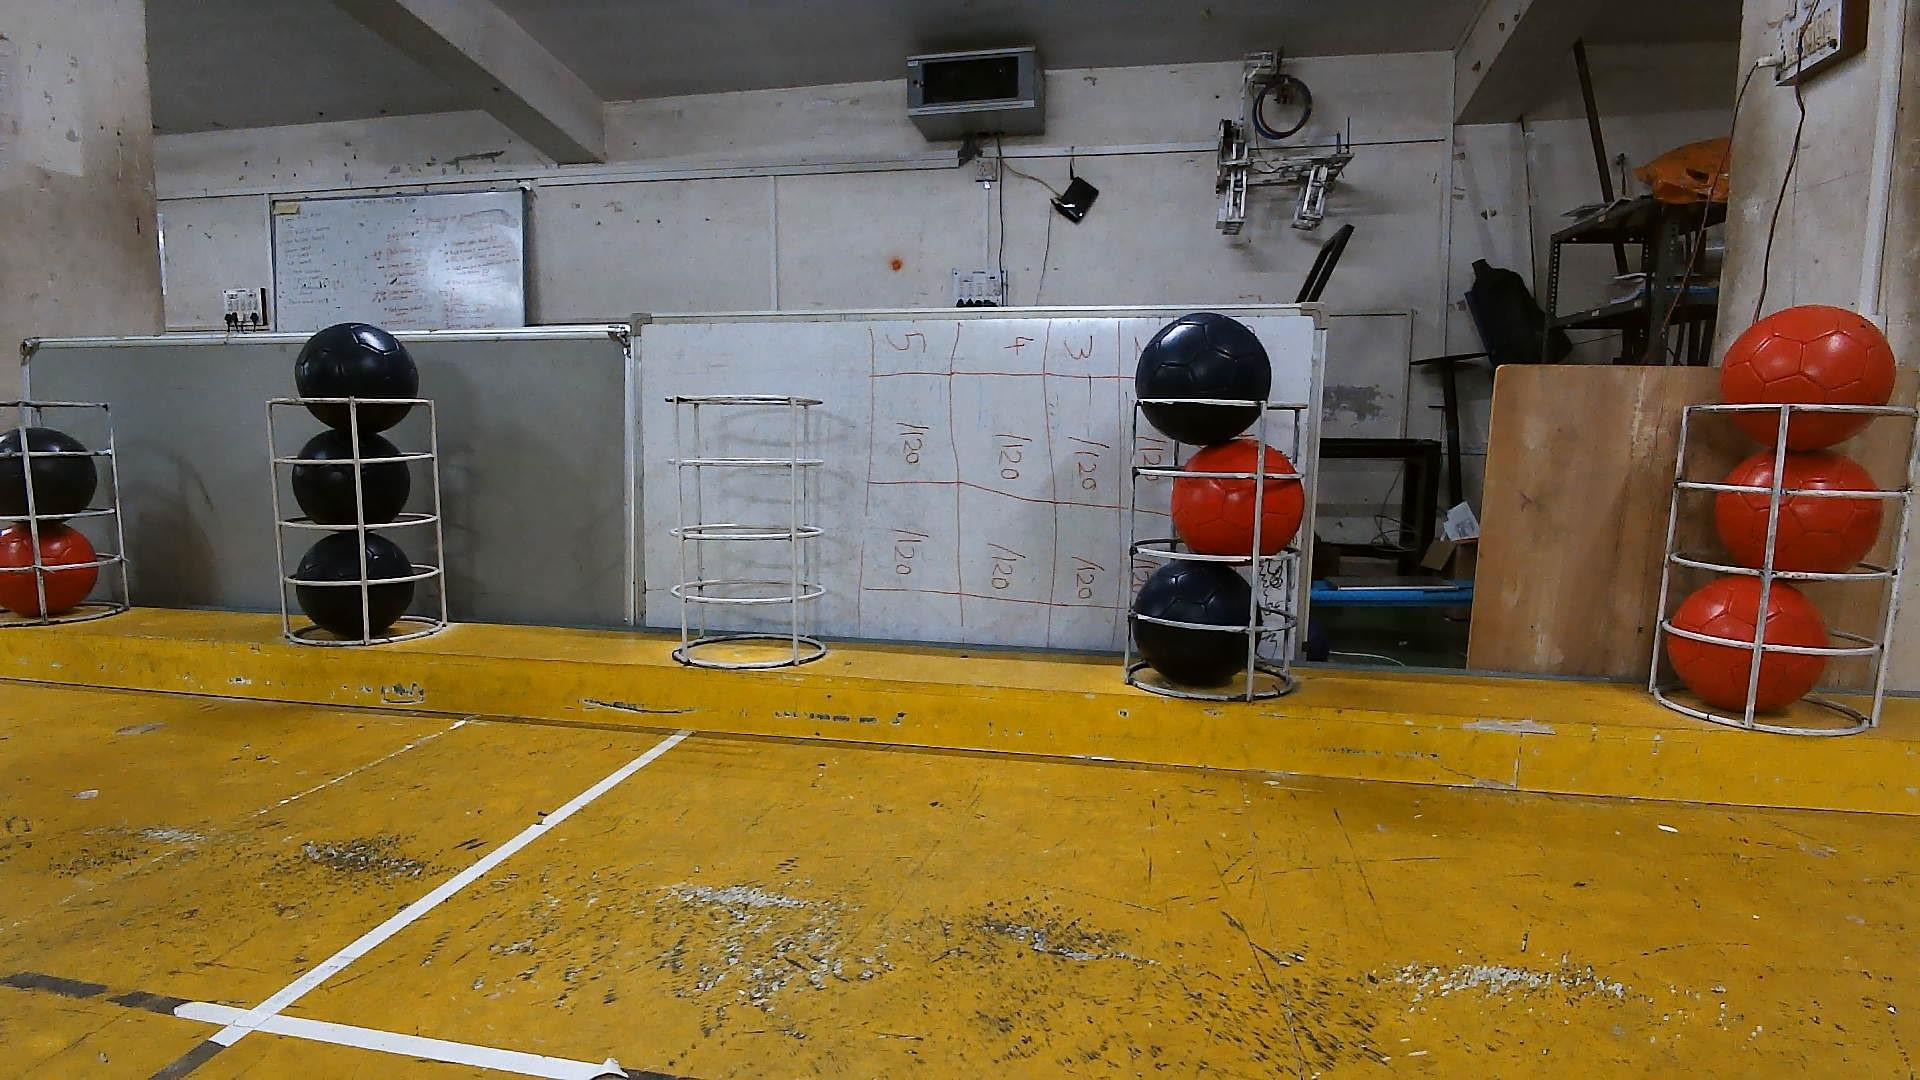dhoka: (1137, 311, 1271, 446), (1133, 559, 1263, 686), (297, 323, 419, 435), (293, 533, 417, 641), (293, 427, 413, 529), (0, 425, 99, 529)
laale: (1721, 303, 1898, 454), (1665, 574, 1830, 712), (1714, 450, 1883, 574), (1170, 439, 1305, 555), (0, 521, 98, 618)
